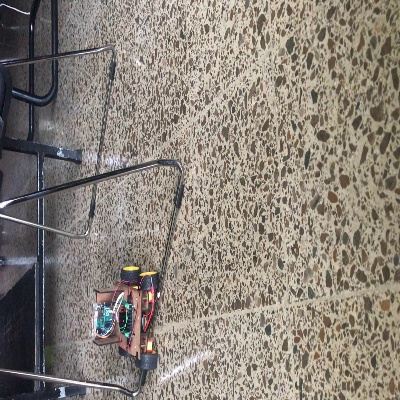Robot: (90, 263, 161, 369)
